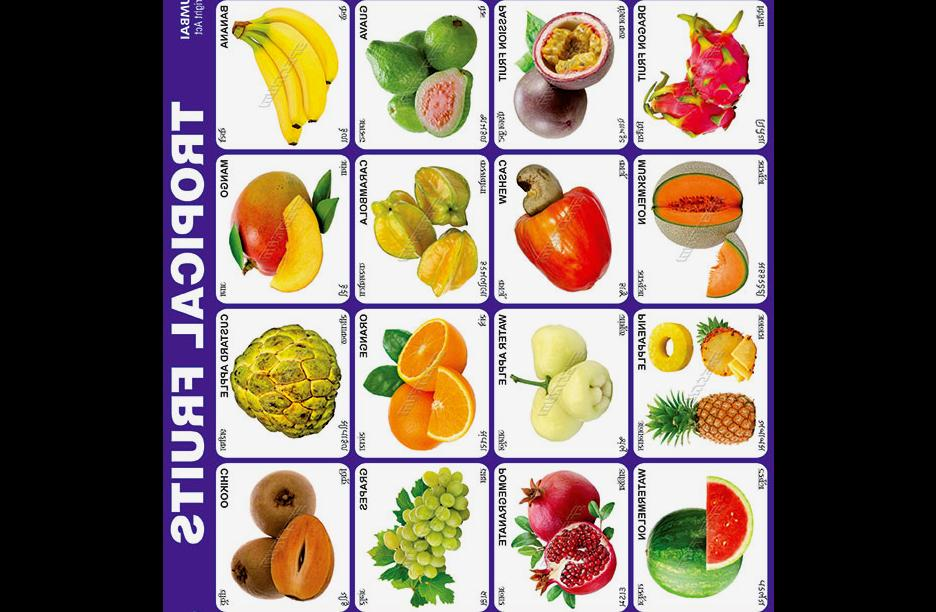chuoi: (235, 8, 338, 146)
